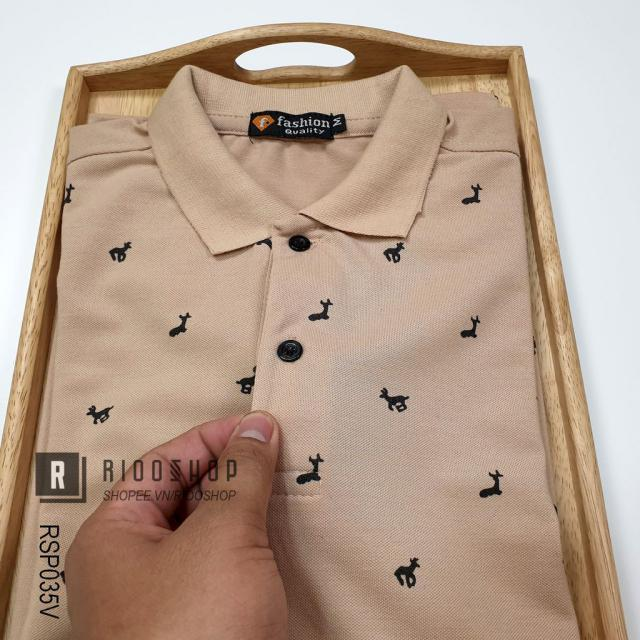Shirt: (31, 56, 584, 640)
